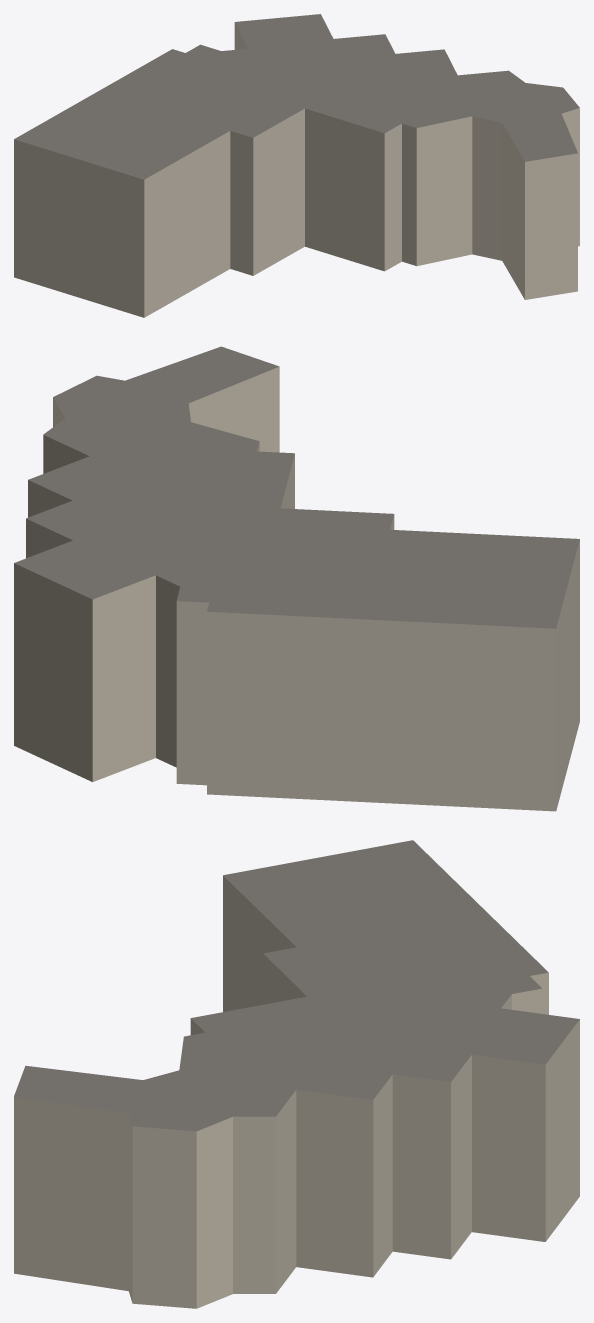
3 renders of one model, top to bottom at view 1: azimuth 30°, elevation 25°; view 2: azimuth 150°, elevation 25°; view 3: azimuth 270°, elevation 25°, orthographic. The views are drawn at different scales.
Parts seen in each view (by area): view 1: HP-w1512359746; view 2: HP-w1512359746; view 3: HP-w1512359746.
Part boxes in pixels (x1,y1,x2,y2): HP-w1512359746: (14,14,579,317); HP-w1512359746: (14,346,579,811); HP-w1512359746: (14,840,579,1308).
Bounding box in the file's own units: 63.38 × 18 × 52.04.
